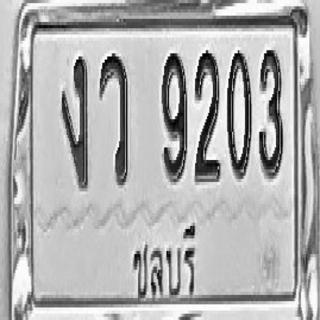A07: (61, 53, 88, 188)
A37: (99, 50, 128, 185)
N00: (226, 47, 252, 179)
N02: (194, 49, 221, 180)
N03: (258, 45, 283, 177)
N09: (161, 49, 187, 180)
P13: (126, 217, 199, 302)
